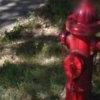Hydrant: (51, 2, 100, 100)
